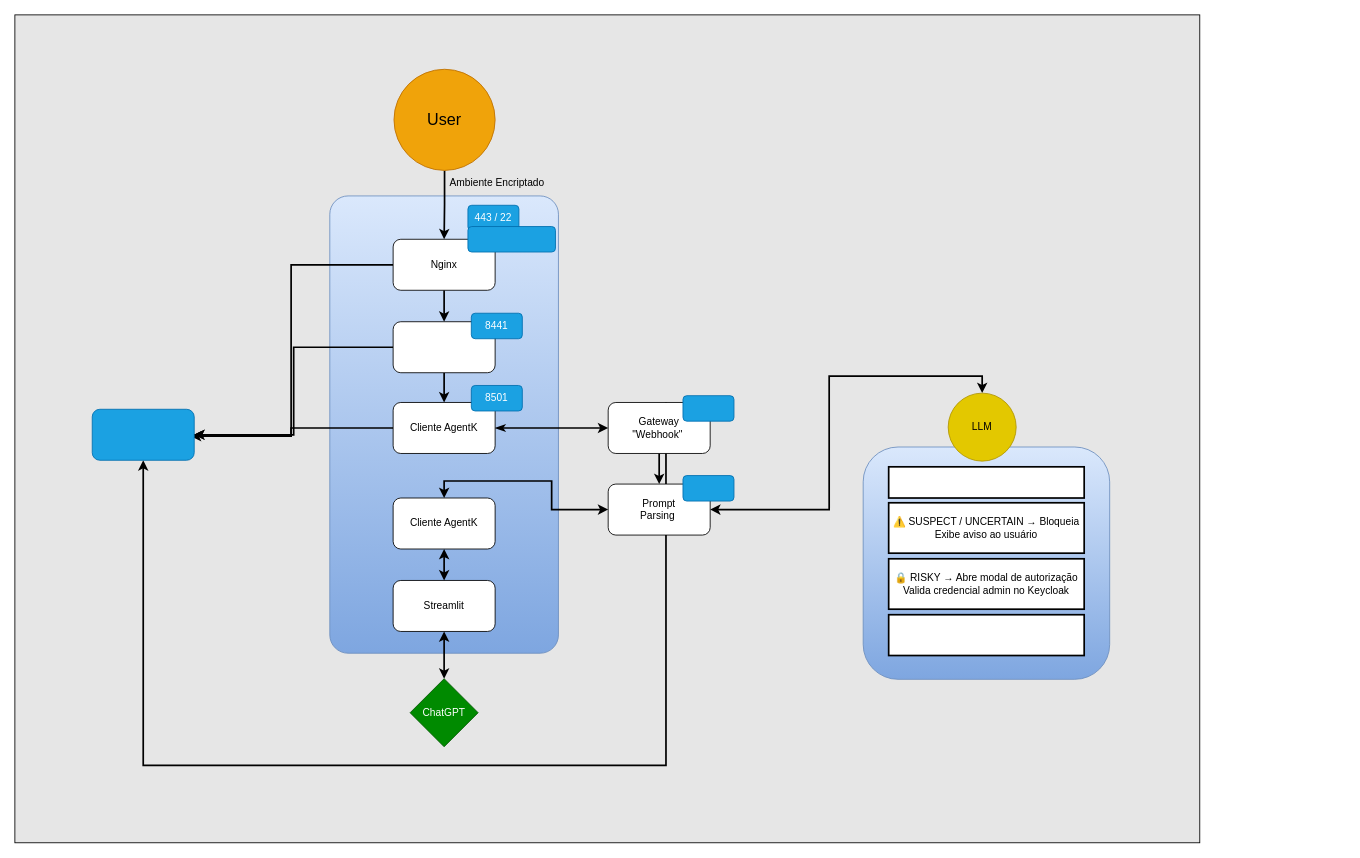
This 1360x858 diagram has some shape labels left out. The shapes that lost their labels are listed below. From the top down, each one's centre as x and y in pixels, then its label:
At [511,239]: "HTTPS/SSH".
At [443,347]: "Keycloak/ Oauth 2".
At [708,408]: "Text".
At [142,434]: "/var/logs".
At [708,488]: "JSON".
At [986,482]: "✅ SAFE → Envia para OpenAI".
At [986,634]: "🛑 UNSAFE → Bloqueio crítico Sem possibilidade de prosseguir".
